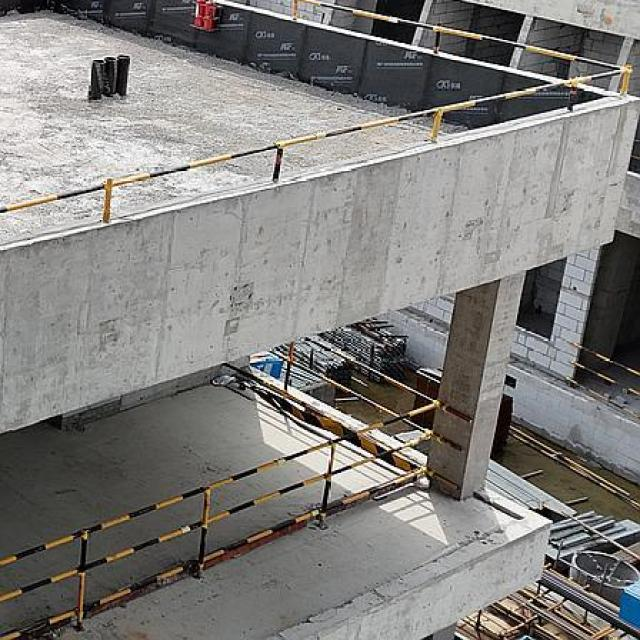edge_guardrail: (0, 335, 473, 640), (0, 0, 634, 223), (564, 340, 640, 420), (631, 139, 640, 160)
